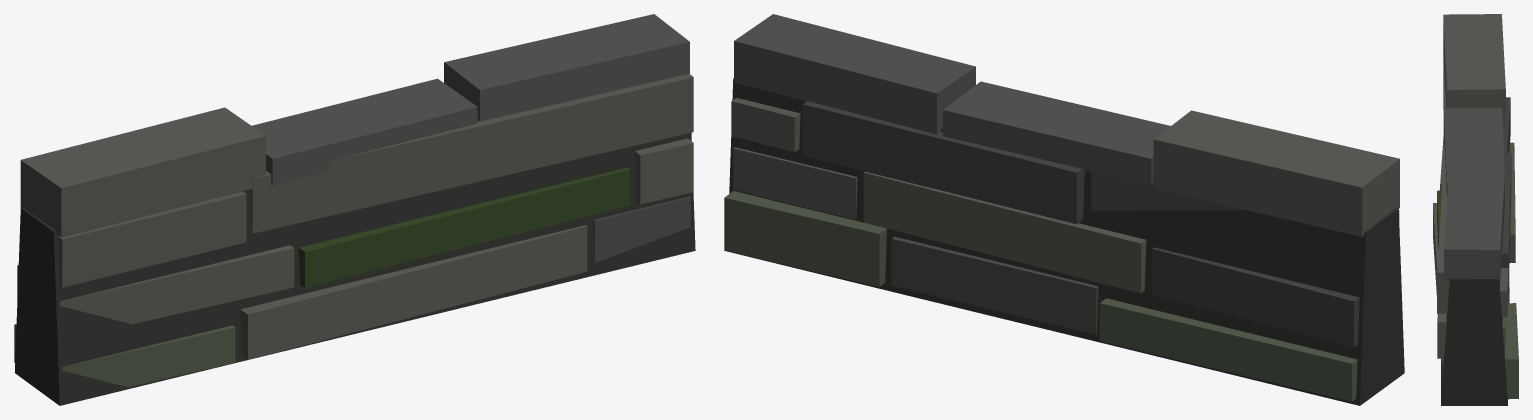
Rendered from drystone-wall-lod.glb.
3 renders of one model, left to right at view 1: azimuth 30°, elevation 25°; view 2: azimuth 150°, elevation 25°; view 3: azimuth 270°, elevation 25°, orthographic. The views are drawn at different scales.
Visible parts, largest first — view 1: drystone-wall; view 2: drystone-wall; view 3: drystone-wall.
Part boxes in pixels (x1=…): drystone-wall: x1=14, y1=14, x2=695, y2=405; drystone-wall: x1=724, y1=14, x2=1404, y2=405; drystone-wall: x1=1433, y1=14, x2=1518, y2=405.
Bounding box in the file's own units: 4 × 1.3 × 0.6277.
